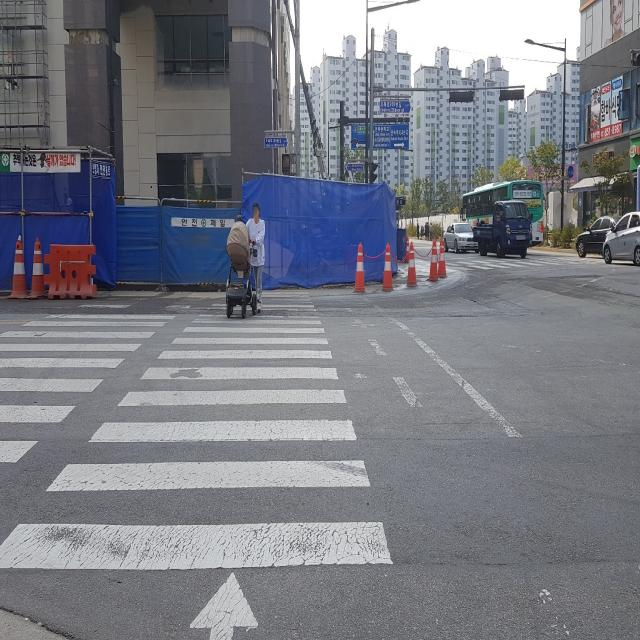횡단보도: (0, 301, 394, 639)
